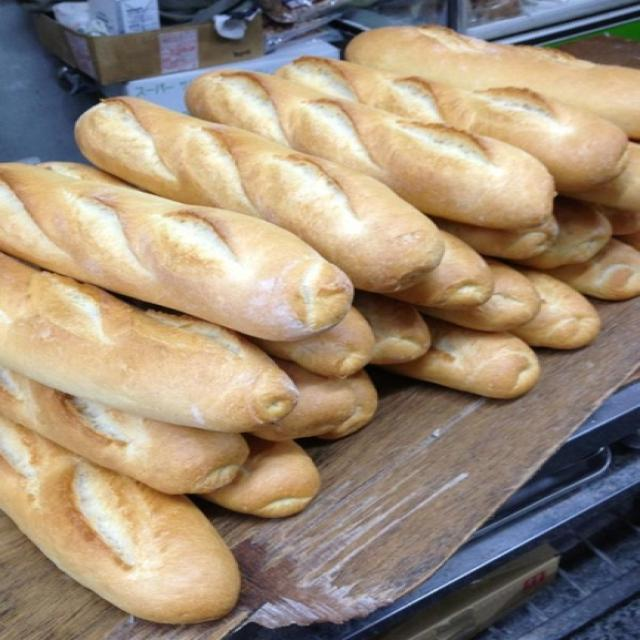面包点心: (3, 10, 633, 629)
